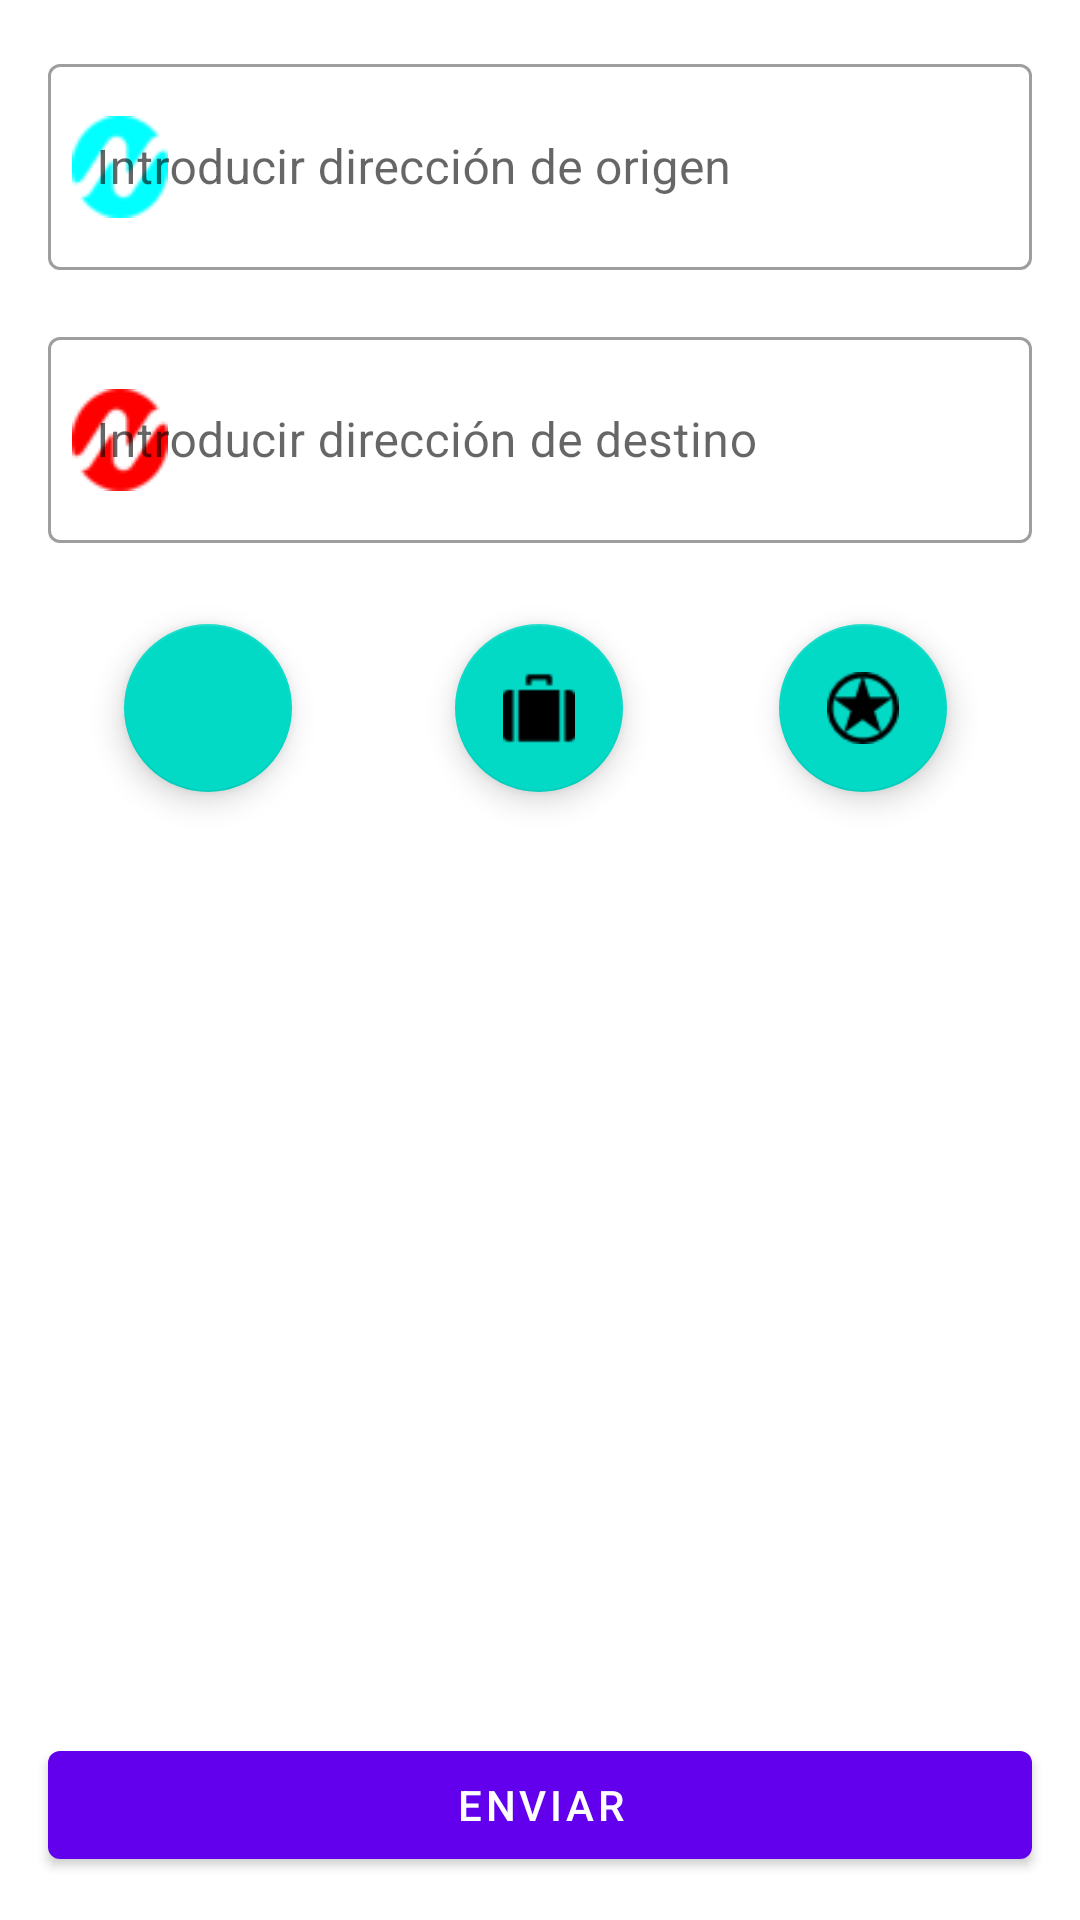

Screen size 1080w x 1920h. Icon name, then its center in pixels as [x,y]:
estrella: [863,708]
maletin: [539,708]
